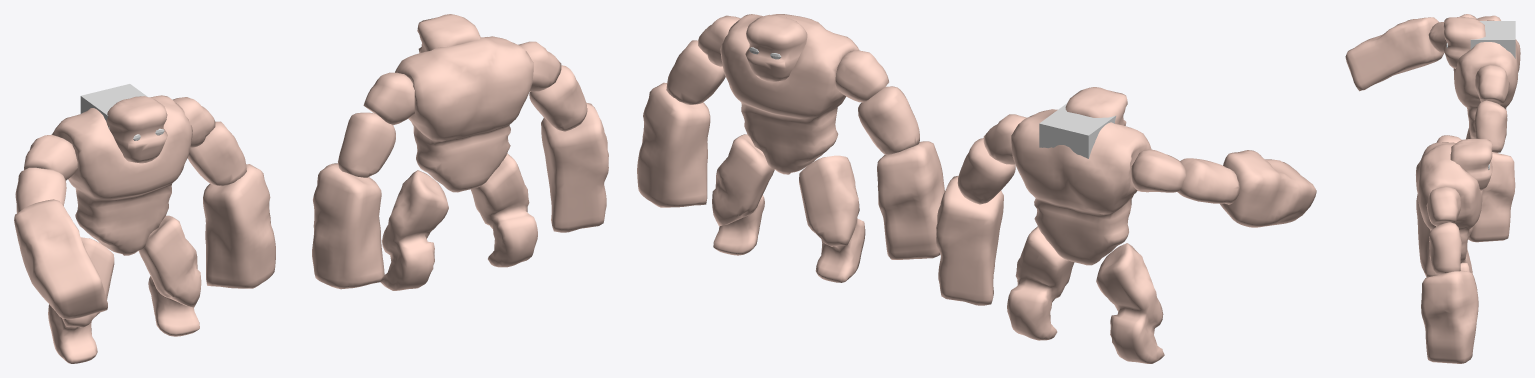
The picture shows the model from 3 angles, left to right: view 1: azimuth 30°, elevation 25°; view 2: azimuth 150°, elevation 25°; view 3: azimuth 270°, elevation 25°; orthographic projection. The views are drawn at different scales.
Visible parts, largest first — view 1: hands&leg.001, hands&leg, torso.001, torso, head, head.001, Cube; view 2: hands&leg.001, hands&leg, torso, torso.001, head.001, Cube, head; view 3: hands&leg, hands&leg.001, torso.001, torso, head.001, head, Cube.
Part boxes in pixels (<box>): hands&leg.001: <box>312,41,608,290</box>; hands&leg: <box>14,97,275,363</box>; torso.001: <box>395,36,533,192</box>; torso: <box>52,95,192,255</box>; head: <box>106,96,167,163</box>; head.001: <box>417,14,480,53</box>; Cube: <box>80,84,147,128</box>; hands&leg.001: <box>637,15,944,282</box>; hands&leg: <box>936,114,1316,363</box>; torso: <box>1011,109,1151,265</box>; torso.001: <box>720,14,859,174</box>; head.001: <box>745,14,807,81</box>; Cube: <box>1039,103,1116,158</box>; head: <box>1065,87,1127,125</box>; hands&leg: <box>1345,14,1515,242</box>; hands&leg.001: <box>1416,135,1478,363</box>; torso.001: <box>1416,142,1482,262</box>; torso: <box>1453,20,1520,138</box>; head.001: <box>1450,138,1492,190</box>; head: <box>1443,17,1485,68</box>; Cube: <box>1470,21,1515,58</box>.
Size of what is drawn, in the model's own units: 2482 by 957 by 776.
